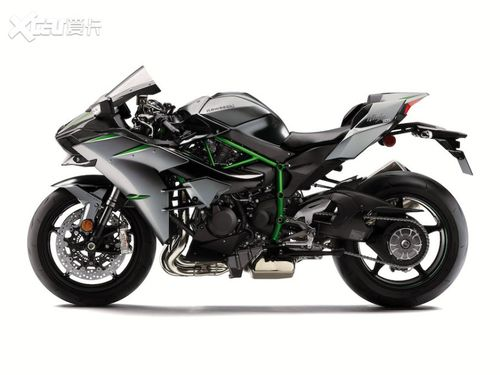摩托车: (14, 65, 490, 316)
